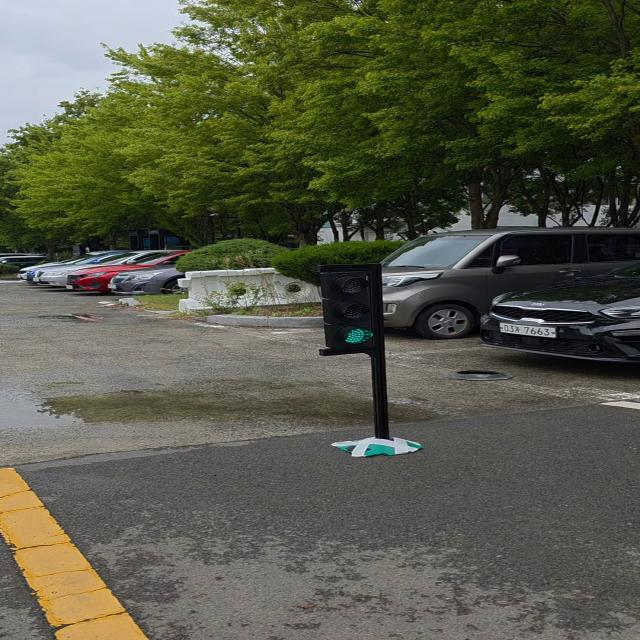green: (326, 264, 390, 357)
